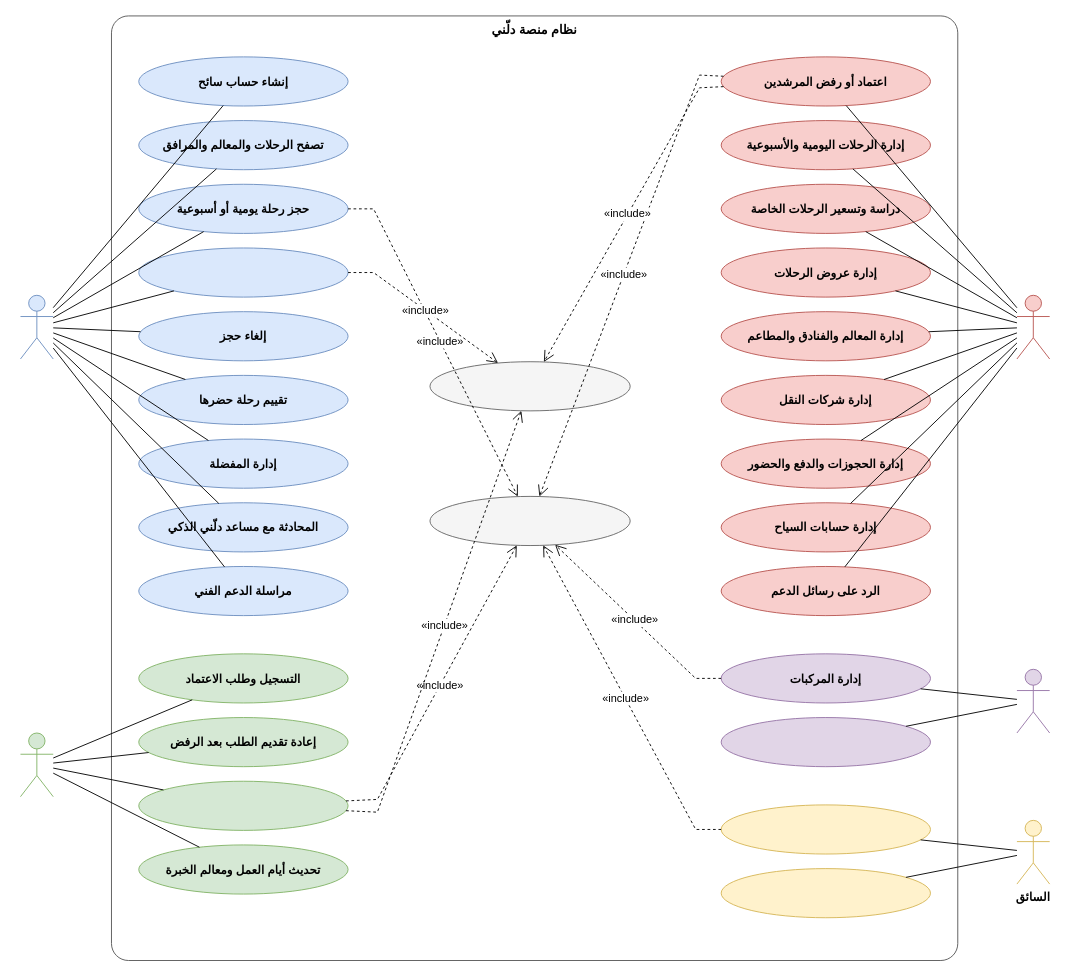
Some shapes in this 1067 by 976 pixel diagram are drawn without their labels. Each missing label, with the box of its shape:
إدارة السائقين: (720, 717, 930, 767)
السائح: (20, 294, 53, 359)
المرشد السياحي: (20, 732, 53, 797)
تحديث مرحلة الرحلة: (720, 868, 930, 918)
تسجيل الدخول: (429, 495, 630, 546)
تلقي الإشعارات: (429, 361, 630, 411)
شركة النقل: (1016, 668, 1050, 733)
طلب رحلة خاصة: (138, 247, 348, 297)
عرض رحلة اليوم المسندة: (720, 804, 930, 854)
قبول أو الاعتذار عن رحلة مسندة: (138, 780, 348, 830)
مدير النظام: (1016, 294, 1050, 359)
